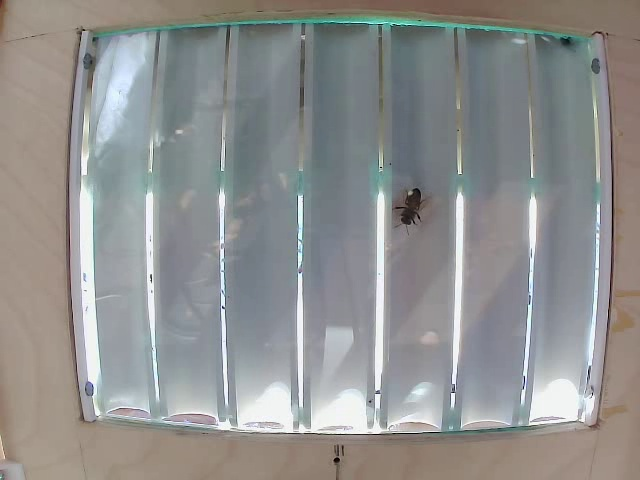bee: (389, 183, 427, 236)
